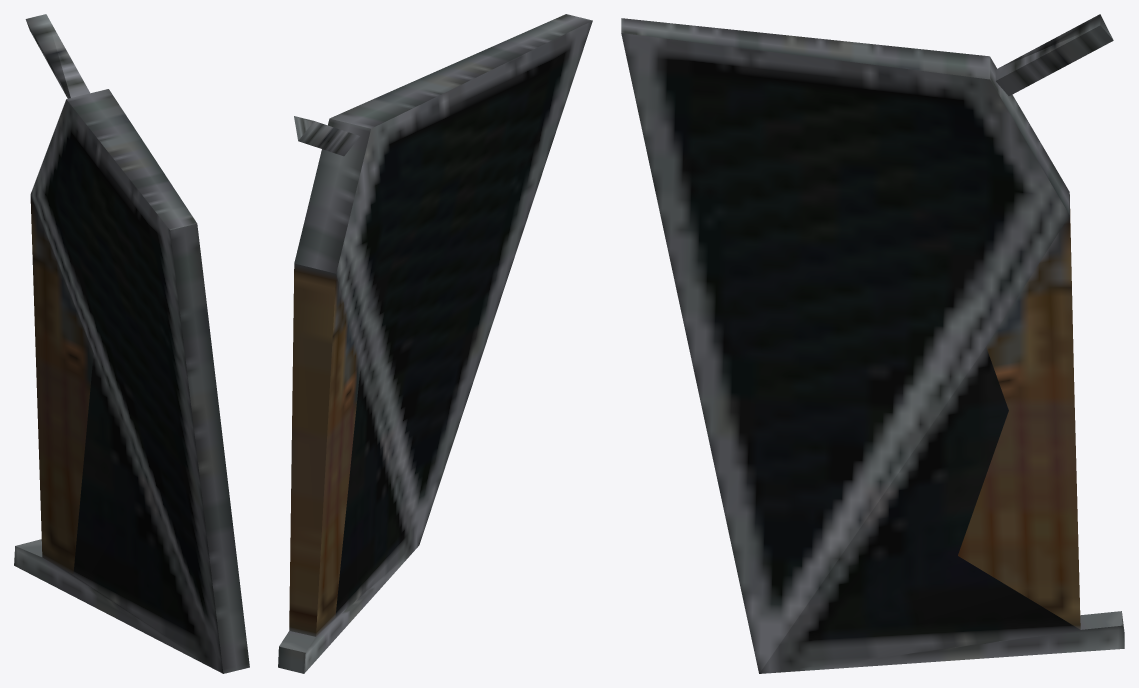
The model's file is tie_fighter_debris_c_l3.fbx.
The picture shows the model from 3 angles, left to right: view 1: azimuth 30°, elevation 25°; view 2: azimuth 150°, elevation 25°; view 3: azimuth 270°, elevation 25°; orthographic projection. The views are drawn at different scales.
Visible parts, largest first — view 1: mesh_node; view 2: mesh_node; view 3: mesh_node.
Part boxes in pixels (x1=…): mesh_node: x1=14, y1=14, x2=249, y2=673; mesh_node: x1=278, y1=14, x2=592, y2=673; mesh_node: x1=621, y1=14, x2=1124, y2=673.
Size of the model in its own units: 1.34 by 5.03 by 3.7.
